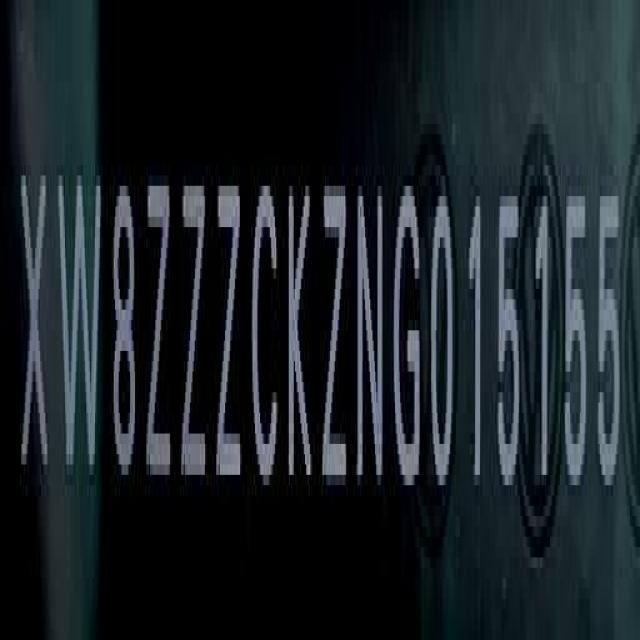0: (428, 182, 456, 496)
1: (532, 170, 552, 502), (463, 172, 483, 498)
5: (498, 173, 524, 500), (565, 175, 591, 497), (599, 174, 624, 496)
8: (114, 176, 138, 492)
C: (253, 173, 282, 495)
G: (392, 180, 422, 504)
K: (286, 168, 314, 497)
N: (352, 176, 387, 512)
W: (55, 167, 102, 495)
X: (18, 162, 48, 496)
Z: (215, 175, 244, 498), (182, 171, 210, 504), (144, 168, 172, 497), (321, 172, 349, 494)
